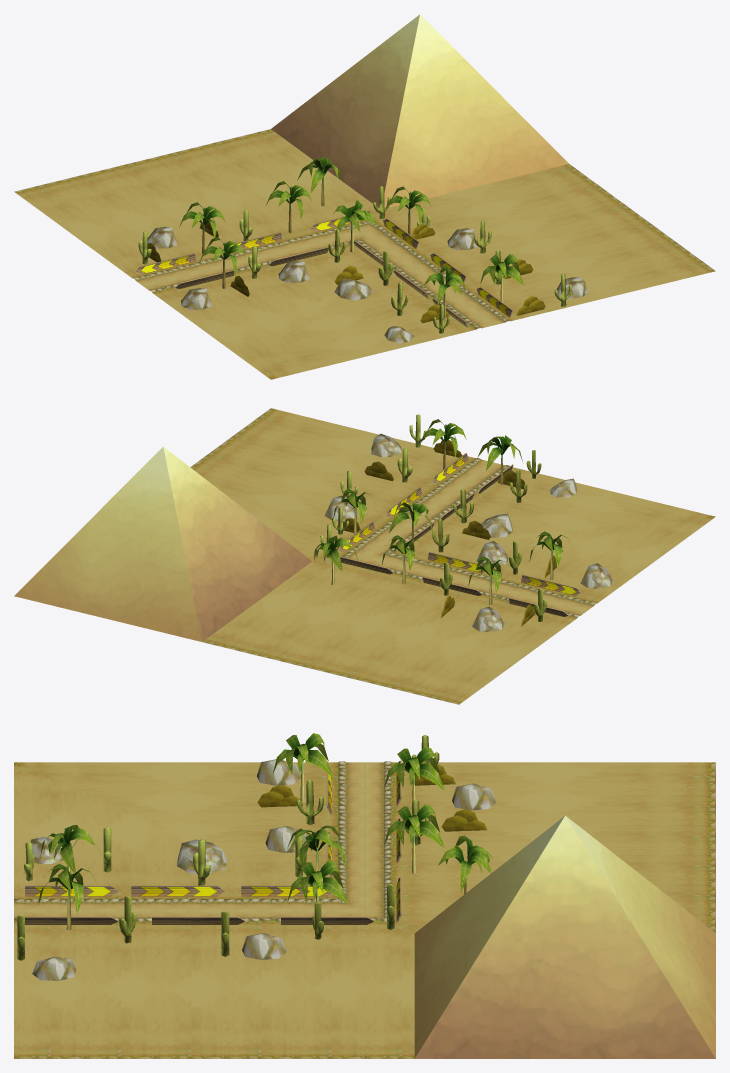
The model's file is DesertRoad02_Left.FBX.
The picture shows the model from 3 angles, top to bottom: view 1: azimuth 30°, elevation 25°; view 2: azimuth 150°, elevation 25°; view 3: azimuth 270°, elevation 25°; orthographic projection. The views are drawn at different scales.
Visible parts, largest first — view 1: Road, Pyramid, PalmTree (×8), Stone; view 2: Road, Pyramid, PalmTree (×8), Stone (×6), Fence; view 3: Road, Pyramid, PalmTree (×8), Stone (×7), Fence (×6), Bush (×2), Cactus.
Boxes of the visible parts, x1,y1,x2,y2 form: Road: [14, 129, 715, 379]; Pyramid: [271, 14, 568, 208]; PalmTree (×8): [179, 156, 524, 318]; Stone: [334, 278, 373, 300]; Road: [190, 408, 715, 704]; Pyramid: [14, 446, 311, 641]; PalmTree (×8): [314, 419, 572, 604]; Stone (×6): [324, 433, 613, 632]; Fence: [521, 575, 580, 595]; Road: [14, 761, 715, 1058]; Pyramid: [414, 815, 715, 1058]; PalmTree (×8): [38, 733, 494, 930]; Stone (×7): [30, 759, 496, 980]; Fence (×6): [25, 885, 374, 924]; Bush (×2): [257, 784, 486, 831]; Cactus: [296, 779, 323, 825].
Size of the model in its own units: 10000 by 2936 by 10000.
